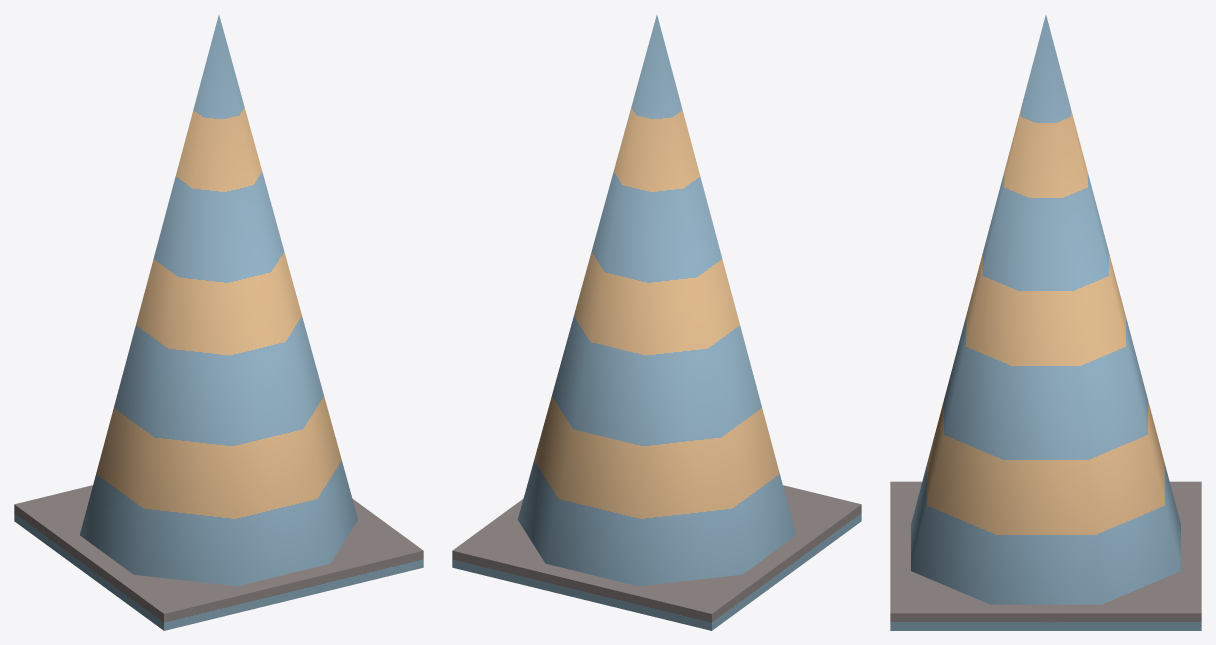
The model's file is 036f_Big_Pylon.glb.
The picture shows the model from 3 angles, left to right: view 1: azimuth 30°, elevation 25°; view 2: azimuth 150°, elevation 25°; view 3: azimuth 270°, elevation 25°; orthographic projection. The views are drawn at different scales.
Parts seen in each view (by area): view 1: part_0; view 2: part_0; view 3: part_0.
Boxes of the visible parts, x1,y1,x2,y2 form: part_0: (14,15,423,630); part_0: (452,15,861,630); part_0: (890,15,1201,630).
Bounding box in the file's own units: 0.768 × 1.5 × 0.768.
1 material, 1 textured.
